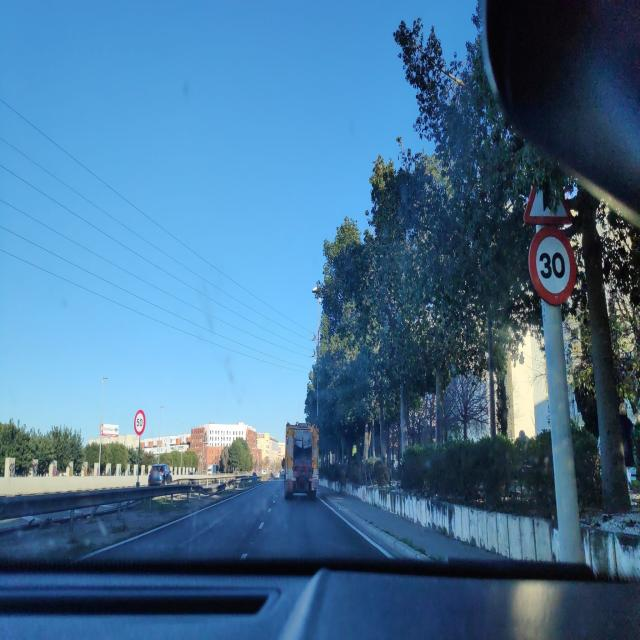car: (148, 463, 173, 486)
